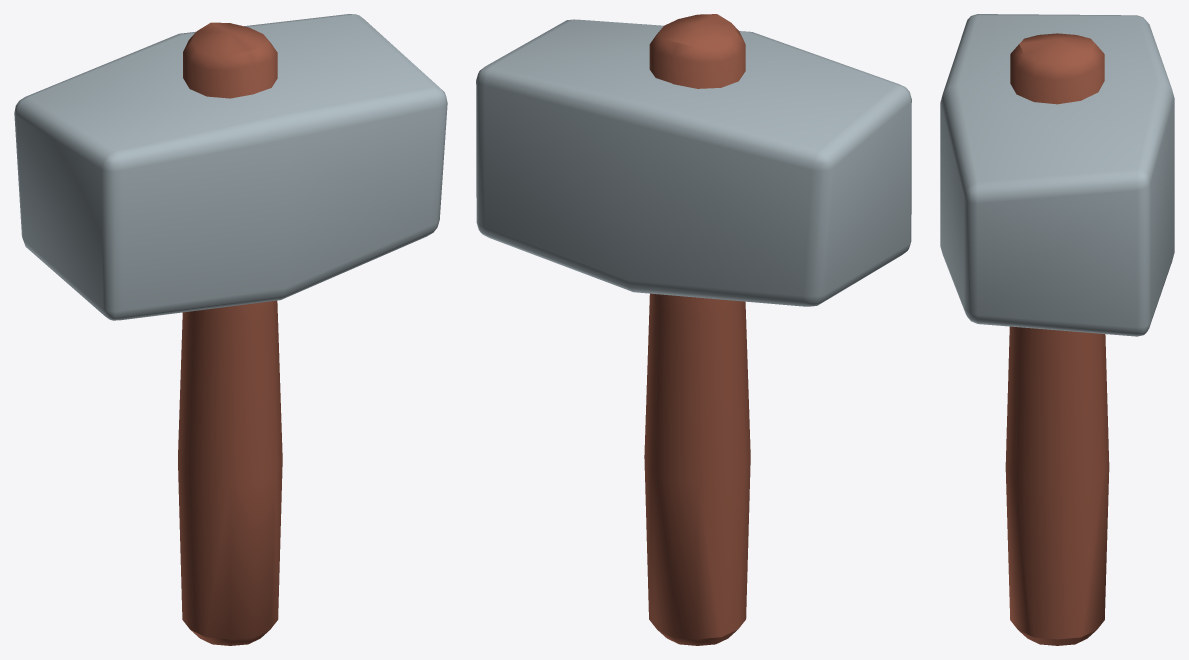
File: hammer.gltf.glb
3 renders of one model, left to right at view 1: azimuth 30°, elevation 25°; view 2: azimuth 150°, elevation 25°; view 3: azimuth 270°, elevation 25°, orthographic. The views are drawn at different scales.
Visible parts, largest first — view 1: hammer; view 2: hammer; view 3: hammer.
Boxes of the visible parts, x1,y1,x2,y2 form: hammer: [14, 14, 447, 645]; hammer: [476, 14, 911, 645]; hammer: [940, 14, 1174, 645].
Bounding box in the file's own units: 0.41 × 0.6722 × 0.2398.
